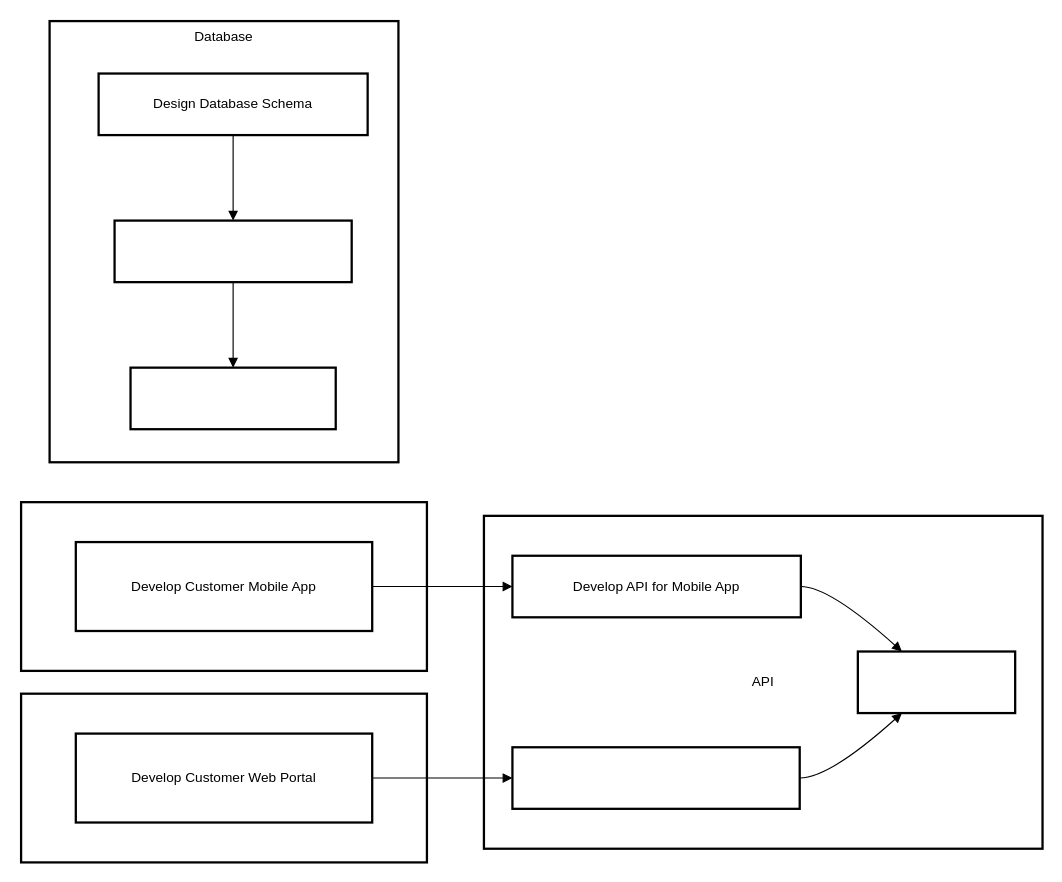
This 1062x882 diagram has some shape labels left out. The centre of each missing label's shape, as x and y in pixels:
API Testing: (x=936, y=682)
Database Testing: (x=232, y=398)
Develop API for Web Portal: (x=655, y=777)
Implement Database: (x=232, y=251)
